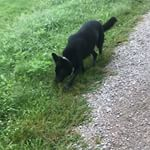puppy: (49, 14, 119, 94)
